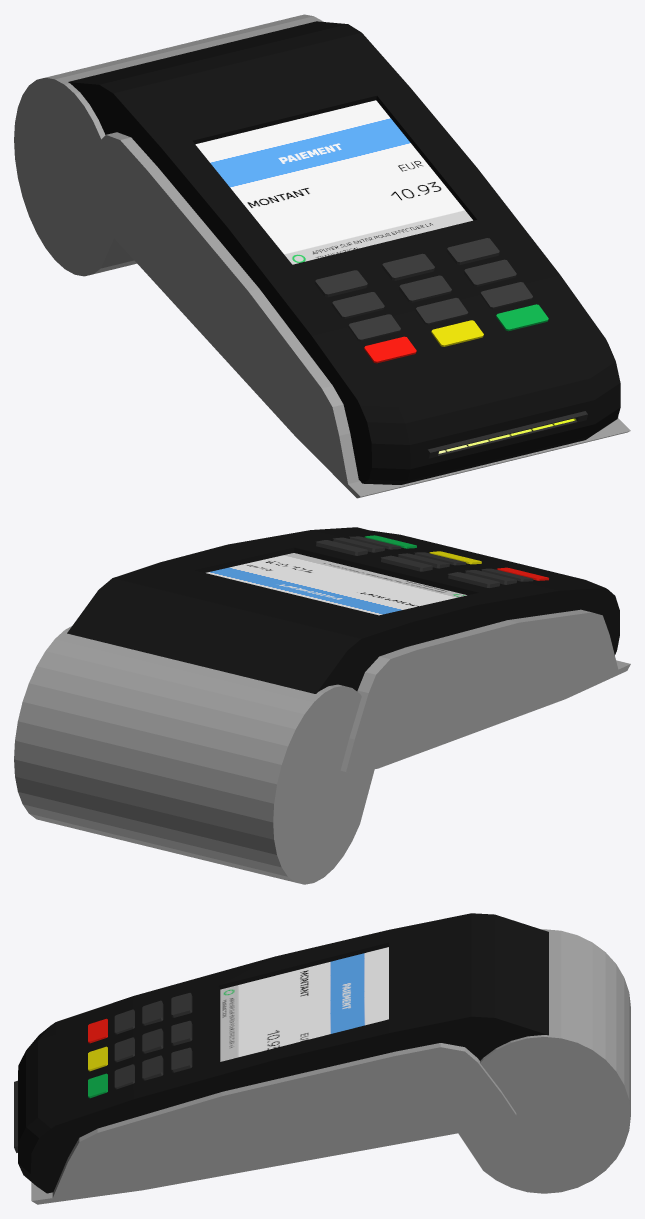
The model's file is paiement.obj.
The picture shows the model from 3 angles, top to bottom: view 1: azimuth 30°, elevation 25°; view 2: azimuth 150°, elevation 25°; view 3: azimuth 270°, elevation 25°; orthographic projection. The views are drawn at different scales.
Visible parts, largest first — view 1: Cylinder.001; view 2: Cylinder.001; view 3: Cylinder.001.
Boxes of the visible parts, <box> form: Cylinder.001: <box>14,14,630,498</box>; Cylinder.001: <box>14,527,630,884</box>; Cylinder.001: <box>14,913,630,1204</box>.
Bounding box in the file's own units: 0.241 × 0.1838 × 0.5594.
3 materials, 3 textured.
